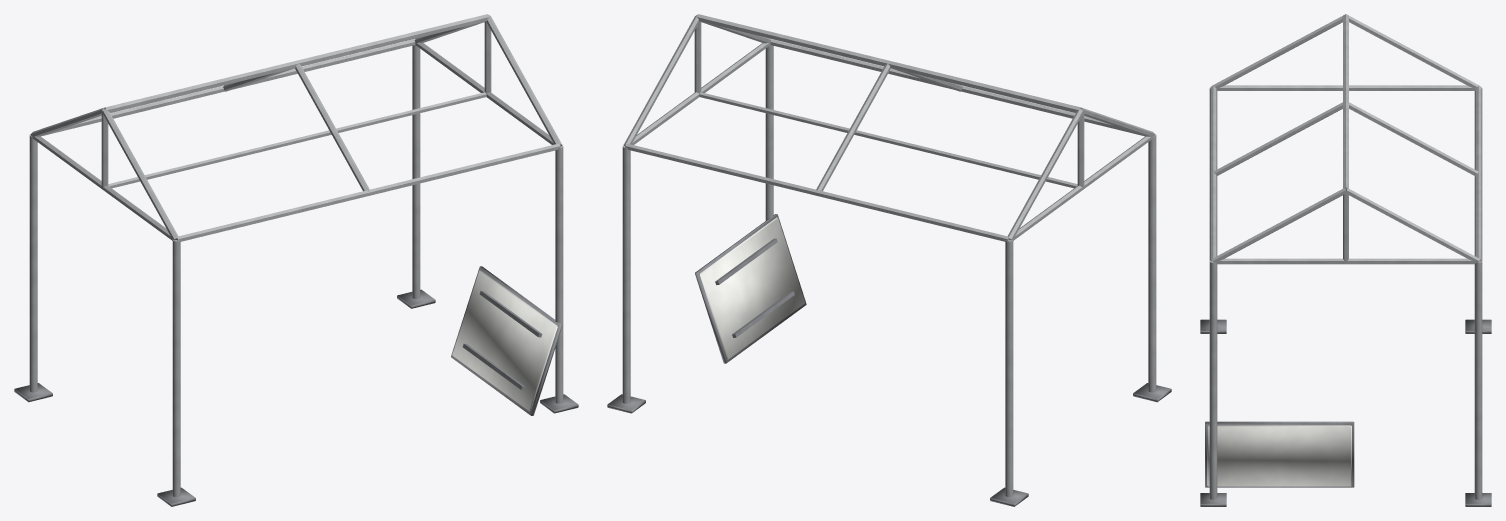
The model's file is Works_TentFrame.fbx.
3 renders of one model, left to right at view 1: azimuth 30°, elevation 25°; view 2: azimuth 150°, elevation 25°; view 3: azimuth 270°, elevation 25°, orthographic. The views are drawn at different scales.
Parts seen in each view (by area): view 1: Body; view 2: Body; view 3: Body.
Part boxes in pixels (x1,y1,x2,y2): Body: (14, 14, 578, 506); Body: (607, 14, 1171, 506); Body: (1200, 14, 1491, 506).
Size of the model in its own units: 3.62 by 2.88 by 2.42.
1 material, 1 textured.
